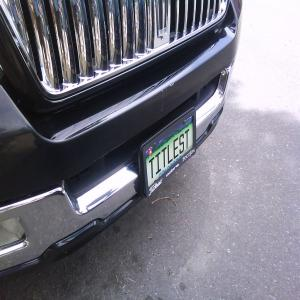Vehicle-registration-plate: (142, 123, 191, 188)
